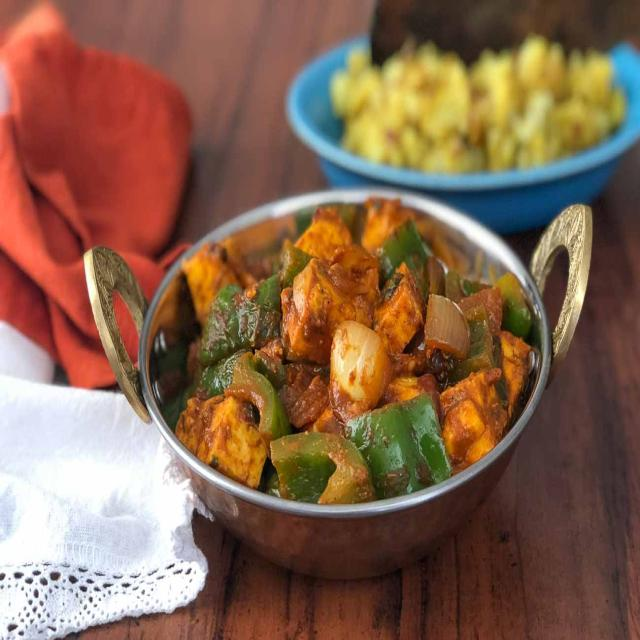panneer: (198, 263, 512, 457)
